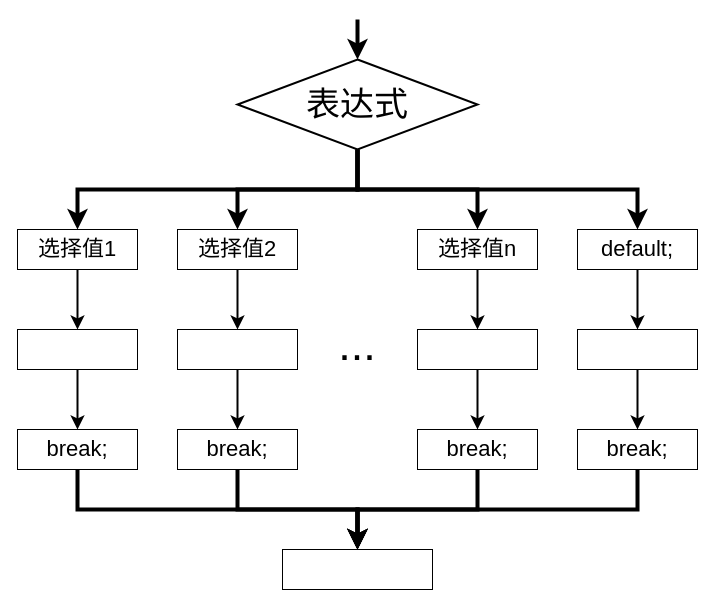
Some shapes in this 715 by 607 pixel diagram are drawn without their labels. Here are the shapes that lost their labels. From the top down, the box of each, then its label:
(16, 328, 138, 370): 语句主体1
(176, 328, 298, 370): 语句主体2
(416, 328, 538, 370): 语句主体n
(576, 328, 698, 370): 语句主体
(282, 548, 432, 590): 其它语句
